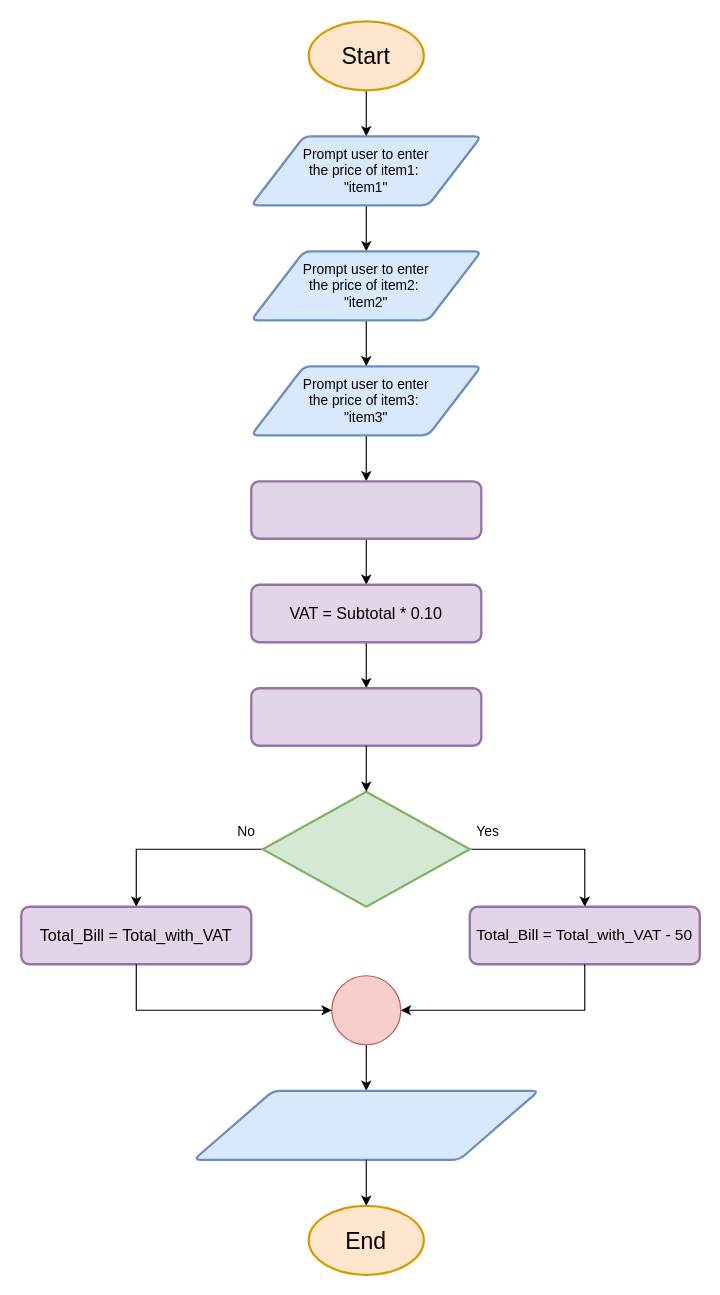
Image size: 720x1295. Some labels were removed from this diagram. The box of each missing label's shape, as (x1, y1, x2, y2) in pixels:
is Total_with_VAT > 500?: (261, 790, 470, 907)
Print total bill(including VAT): "Total_Bill": (192, 1089, 539, 1160)
Subtotal = item1 + item2 + item3: (250, 480, 482, 539)
Total_with_VAT = Subtotal + VAT: (250, 687, 482, 746)
